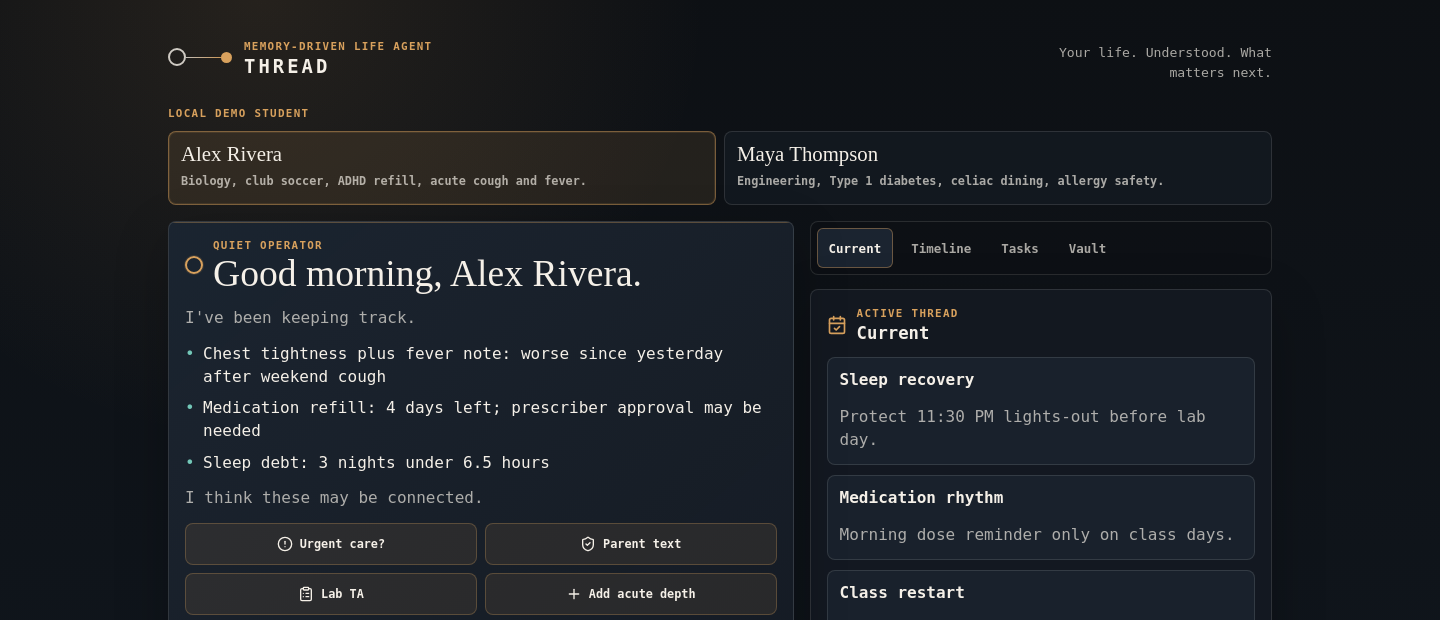
Test: THREAD app shell › keeps secondary tools behind tabs
Expected: the element named "thread sections" is shown, x1=810 y1=222 x2=1272 y2=276
Expected: the heading "private memory" is not shown
What coordinates should you click on to do the following:
click the tab "Timeline"
I would click on:
 (941, 248)
Its box is x1=899 y1=228 x2=983 y2=268.
(page scrolled)
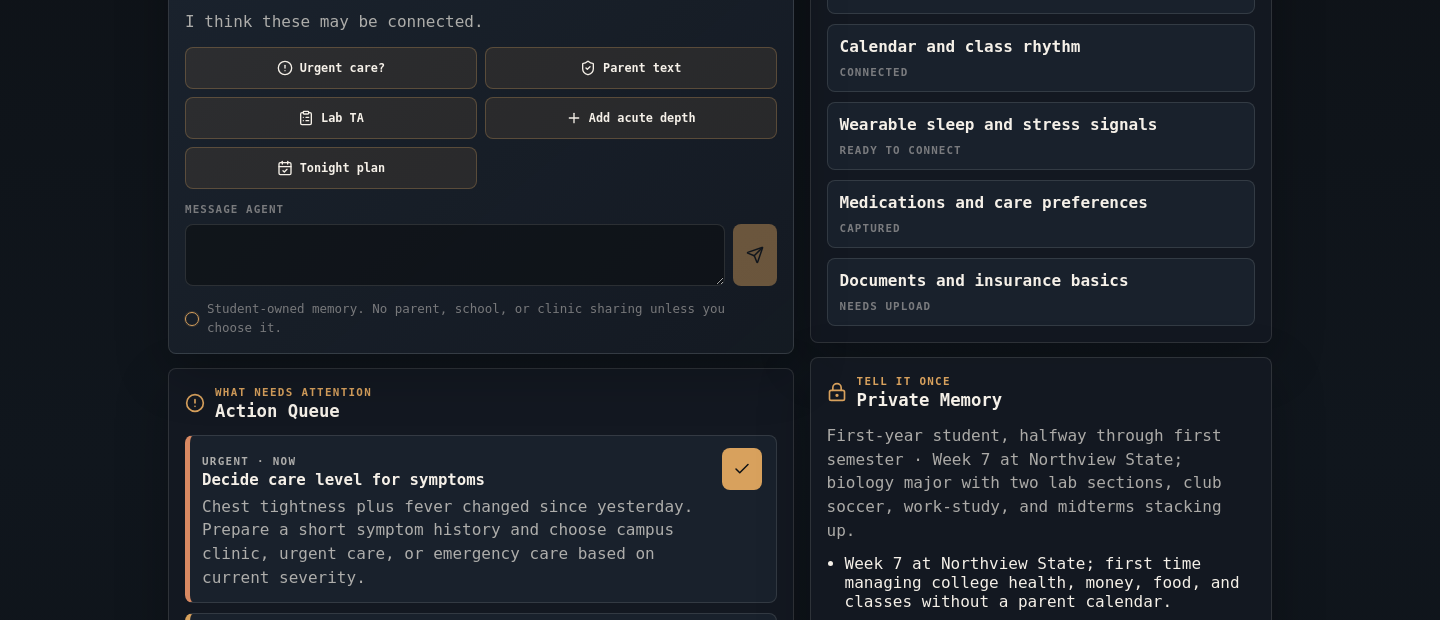
Expected: the heading "Private Memory" is shown, x1=857 y1=390 x2=1002 y2=410
